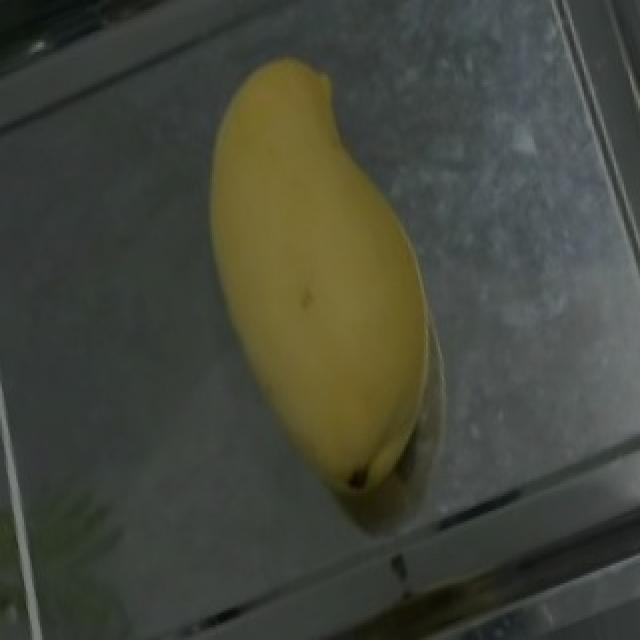fruit: (134, 15, 480, 414)
